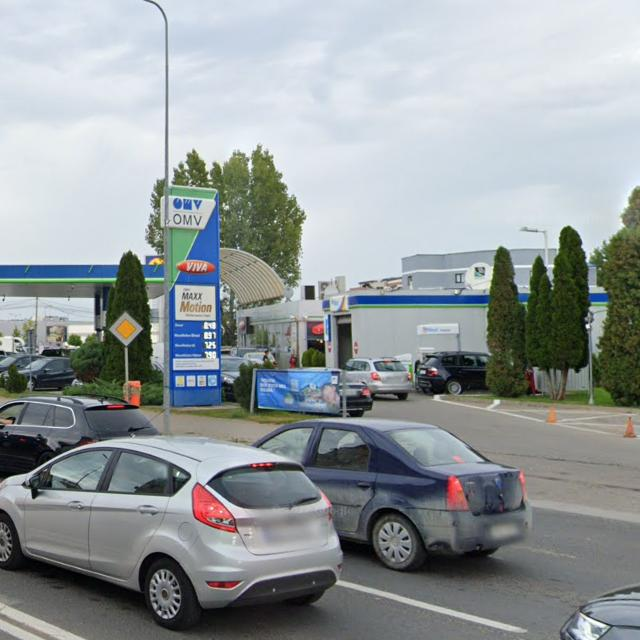prio_priority_road: (108, 310, 144, 346)
